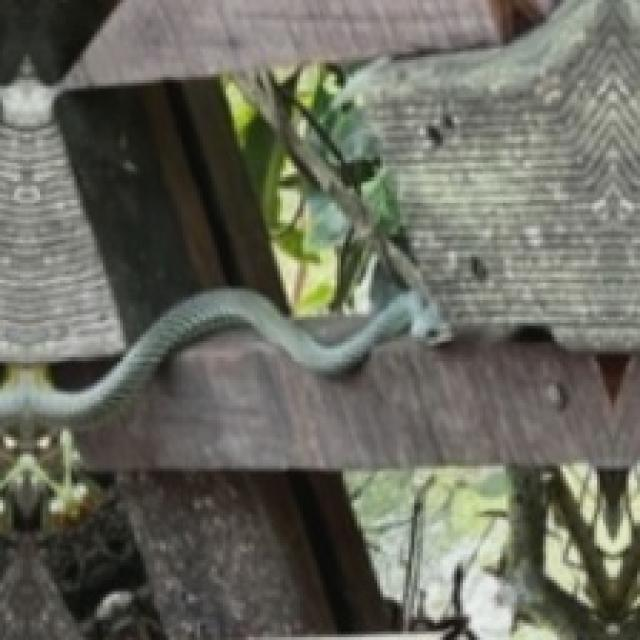paradise tree snake: (0, 290, 451, 423)
